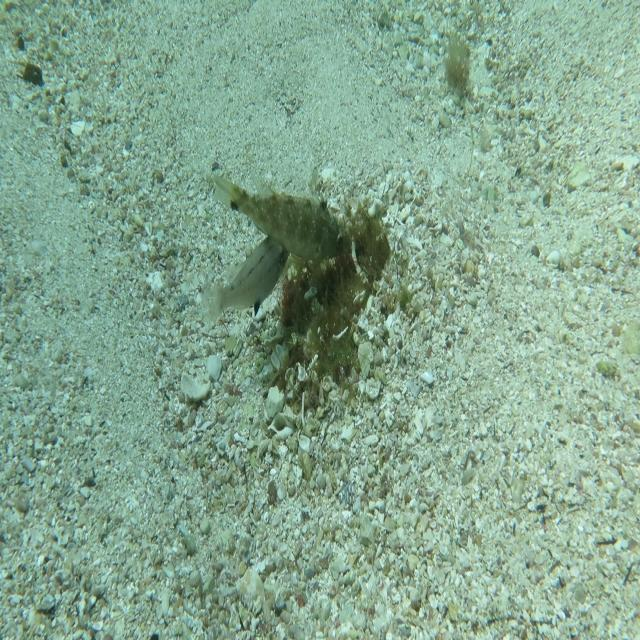INSF: (211, 164, 353, 262)
female: (199, 234, 290, 331)
nest: (269, 186, 405, 424)
